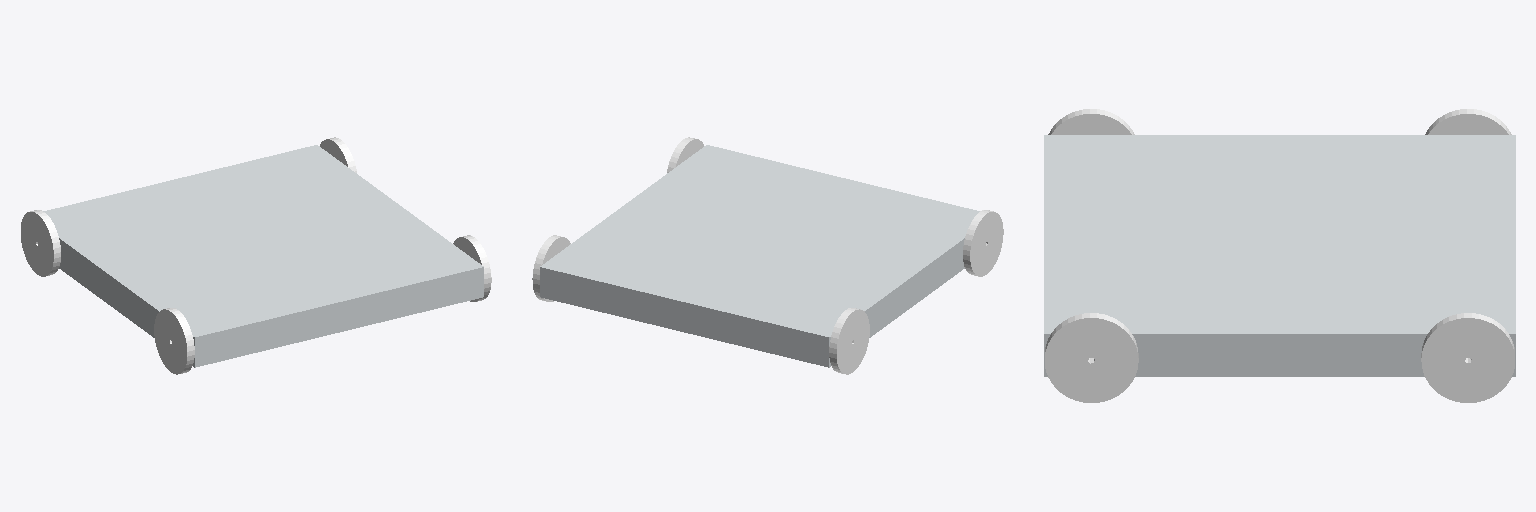
robot.urdf — tankbot.SLDASM:
<?xml version="1.0" encoding="utf-8"?>
<!-- This URDF was automatically created by SolidWorks to URDF Exporter! Originally created by [author] ([email redacted]) 
     Commit Version: 1.6.0-4-g7f85cfe  Build Version: 1.6.7995.38578
     For more information, please see http://wiki.ros.org/sw_urdf_exporter -->
<robot
  name="tankbot.SLDASM">
  <link
    name="base_link">
    <inertial>
      <origin
        xyz="0.5 -0.5 0.0499955047509626"
        rpy="0 0 0" />
      <mass
        value="268.303539967062" />
      <inertia
        ixx="22.453480708841"
        ixy="2.61466463990094E-15"
        ixz="1.15835887283115E-16"
        iyy="22.5835850562004"
        iyz="1.32529078891745E-18"
        izz="44.5871523138175" />
    </inertial>
    <visual>
      <origin
        xyz="0 0 0"
        rpy="0 0 0" />
      <geometry>
        <mesh
          filename="package://tankbot.SLDASM/meshes/base_link.STL" />
      </geometry>
      <material
        name="">
        <color
          rgba="0.898039215686275 0.917647058823529 0.929411764705882 1" />
      </material>
    </visual>
    <collision>
      <origin
        xyz="0 0 0"
        rpy="0 0 0" />
      <geometry>
        <mesh
          filename="package://tankbot.SLDASM/meshes/base_link.STL" />
      </geometry>
    </collision>
  </link>
  <link
    name="left_front">
    <inertial>
      <origin
        xyz="-0.0127 -0.1 0.0507109458557"
        rpy="0 0 0" />
      <mass
        value="1.03274161975718" />
      <inertia
        ixx="0.00518666614972295"
        ixy="2.35788576490018E-19"
        ixz="-1.01335940419853E-19"
        iyy="0.00264885670681169"
        iyz="-2.40824062991046E-19"
        izz="0.00264885670681169" />
    </inertial>
    <visual>
      <origin
        xyz="0 0 0"
        rpy="0 0 0" />
      <geometry>
        <mesh
          filename="package://tankbot.SLDASM/meshes/left_front.STL" />
      </geometry>
      <material
        name="">
        <color
          rgba="1 1 1 1" />
      </material>
    </visual>
    <collision>
      <origin
        xyz="0 0 0"
        rpy="0 0 0" />
      <geometry>
        <mesh
          filename="package://tankbot.SLDASM/meshes/left_front.STL" />
      </geometry>
    </collision>
  </link>
  <joint
    name="left_front_joint"
    type="revolute">
    <origin
      xyz="0 0 0"
      rpy="0 0 0" />
    <parent
      link="base_link" />
    <child
      link="left_front" />
    <axis
      xyz="1 0 0" />
    <limit
      lower="0"
      upper="0"
      effort="0"
      velocity="0" />
  </joint>
  <link
    name="left_rear">
    <inertial>
      <origin
        xyz="-0.0126999999999989 -0.900000000000001 0.0507109458557"
        rpy="0 0 0" />
      <mass
        value="1.03274161975718" />
      <inertia
        ixx="0.00518666614972295"
        ixy="-3.19598129685603E-20"
        ixz="-1.7176554196641E-19"
        iyy="0.00264885670681169"
        iyz="-3.1047561901453E-19"
        izz="0.00264885670681169" />
    </inertial>
    <visual>
      <origin
        xyz="0 0 0"
        rpy="0 0 0" />
      <geometry>
        <mesh
          filename="package://tankbot.SLDASM/meshes/left_rear.STL" />
      </geometry>
      <material
        name="">
        <color
          rgba="1 1 1 1" />
      </material>
    </visual>
    <collision>
      <origin
        xyz="0 0 0"
        rpy="0 0 0" />
      <geometry>
        <mesh
          filename="package://tankbot.SLDASM/meshes/left_rear.STL" />
      </geometry>
    </collision>
  </link>
  <joint
    name="left_rear_joint"
    type="revolute">
    <origin
      xyz="0 0 0"
      rpy="0 0 0" />
    <parent
      link="base_link" />
    <child
      link="left_rear" />
    <axis
      xyz="1 0 0" />
    <limit
      lower="0"
      upper="0"
      effort="0"
      velocity="0" />
  </joint>
  <link
    name="right_front">
    <inertial>
      <origin
        xyz="1.0127 -0.1 0.0507109458556997"
        rpy="0 0 0" />
      <mass
        value="1.03274161975718" />
      <inertia
        ixx="0.00518666614972297"
        ixy="2.26246851586113E-19"
        ixz="-3.61700712539672E-19"
        iyy="0.0026488567068117"
        iyz="5.30704762873048E-19"
        izz="0.0026488567068117" />
    </inertial>
    <visual>
      <origin
        xyz="0 0 0"
        rpy="0 0 0" />
      <geometry>
        <mesh
          filename="package://tankbot.SLDASM/meshes/right_front.STL" />
      </geometry>
      <material
        name="">
        <color
          rgba="1 1 1 1" />
      </material>
    </visual>
    <collision>
      <origin
        xyz="0 0 0"
        rpy="0 0 0" />
      <geometry>
        <mesh
          filename="package://tankbot.SLDASM/meshes/right_front.STL" />
      </geometry>
    </collision>
  </link>
  <joint
    name="right_front_joint"
    type="revolute">
    <origin
      xyz="0 0 0"
      rpy="0 0 0" />
    <parent
      link="base_link" />
    <child
      link="right_front" />
    <axis
      xyz="1 0 0" />
    <limit
      lower="0"
      upper="0"
      effort="0"
      velocity="0" />
  </joint>
  <link
    name="right_rear">
    <inertial>
      <origin
        xyz="1.0127 -0.9 0.0507109458557001"
        rpy="0 0 0" />
      <mass
        value="1.03274161975718" />
      <inertia
        ixx="0.00518666614972297"
        ixy="4.22928903543602E-19"
        ixz="-7.06551532336365E-20"
        iyy="0.0026488567068117"
        iyz="-1.07126816155454E-19"
        izz="0.0026488567068117" />
    </inertial>
    <visual>
      <origin
        xyz="0 0 0"
        rpy="0 0 0" />
      <geometry>
        <mesh
          filename="package://tankbot.SLDASM/meshes/right_rear.STL" />
      </geometry>
      <material
        name="">
        <color
          rgba="1 1 1 1" />
      </material>
    </visual>
    <collision>
      <origin
        xyz="0 0 0"
        rpy="0 0 0" />
      <geometry>
        <mesh
          filename="package://tankbot.SLDASM/meshes/right_rear.STL" />
      </geometry>
    </collision>
  </link>
  <joint
    name="right_rear_joint"
    type="revolute">
    <origin
      xyz="0 0 0"
      rpy="0 0 0" />
    <parent
      link="base_link" />
    <child
      link="right_rear" />
    <axis
      xyz="1 0 0" />
    <limit
      lower="0"
      upper="0"
      effort="0"
      velocity="0" />
  </joint>
</robot>

--- What the picture shows (computed from the rendered views, not written in the file) ---
Views: 3 orthographic renders of the robot side by side, from view 1: azimuth 30°, elevation 25°; view 2: azimuth 150°, elevation 25°; view 3: azimuth 270°, elevation 25°.
Model tankbot.SLDASM with 5 links and 4 joints (4 revolute), rooted at base_link, posed all joints at 0.
Links seen in each view (by area): view 1: base_link, left_rear, left_front, right_rear, right_front; view 2: base_link, left_front, left_rear, right_front, right_rear; view 3: base_link, right_front, right_rear, left_front, left_rear.
Link boxes in pixels (x1=…): base_link: x1=43, y1=145, x2=483, y2=367; left_rear: x1=154, y1=308, x2=194, y2=374; left_front: x1=21, y1=210, x2=60, y2=276; right_rear: x1=453, y1=235, x2=491, y2=301; right_front: x1=320, y1=137, x2=356, y2=172; base_link: x1=540, y1=145, x2=979, y2=367; left_front: x1=829, y1=308, x2=869, y2=374; left_rear: x1=963, y1=210, x2=1003, y2=276; right_front: x1=532, y1=235, x2=570, y2=301; right_rear: x1=667, y1=137, x2=703, y2=172; base_link: x1=1044, y1=135, x2=1515, y2=376; right_front: x1=1421, y1=313, x2=1514, y2=402; right_rear: x1=1045, y1=313, x2=1138, y2=402; left_front: x1=1425, y1=109, x2=1511, y2=134; left_rear: x1=1048, y1=109, x2=1134, y2=134.
Bounding box of the posed robot: 1.05 × 1 × 0.1999 m (x, y, z).
5 mesh visuals loaded from 5 distinct referenced files (5 binary STL).